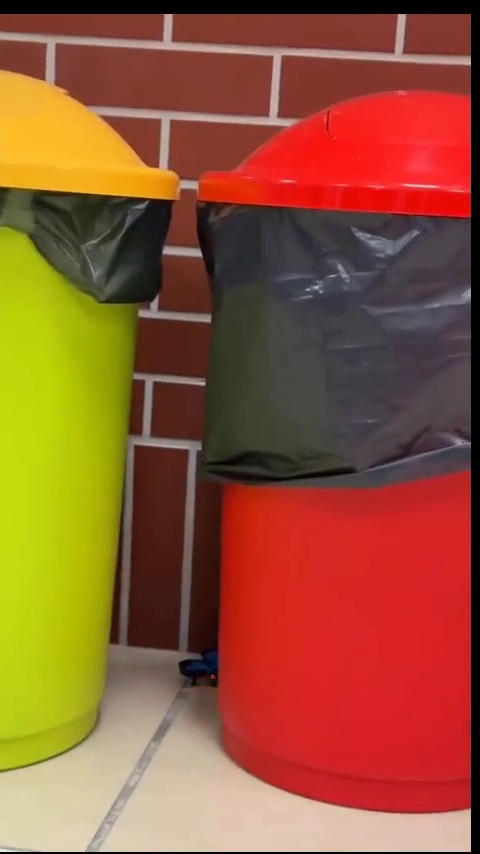drone: (178, 642, 217, 683)
